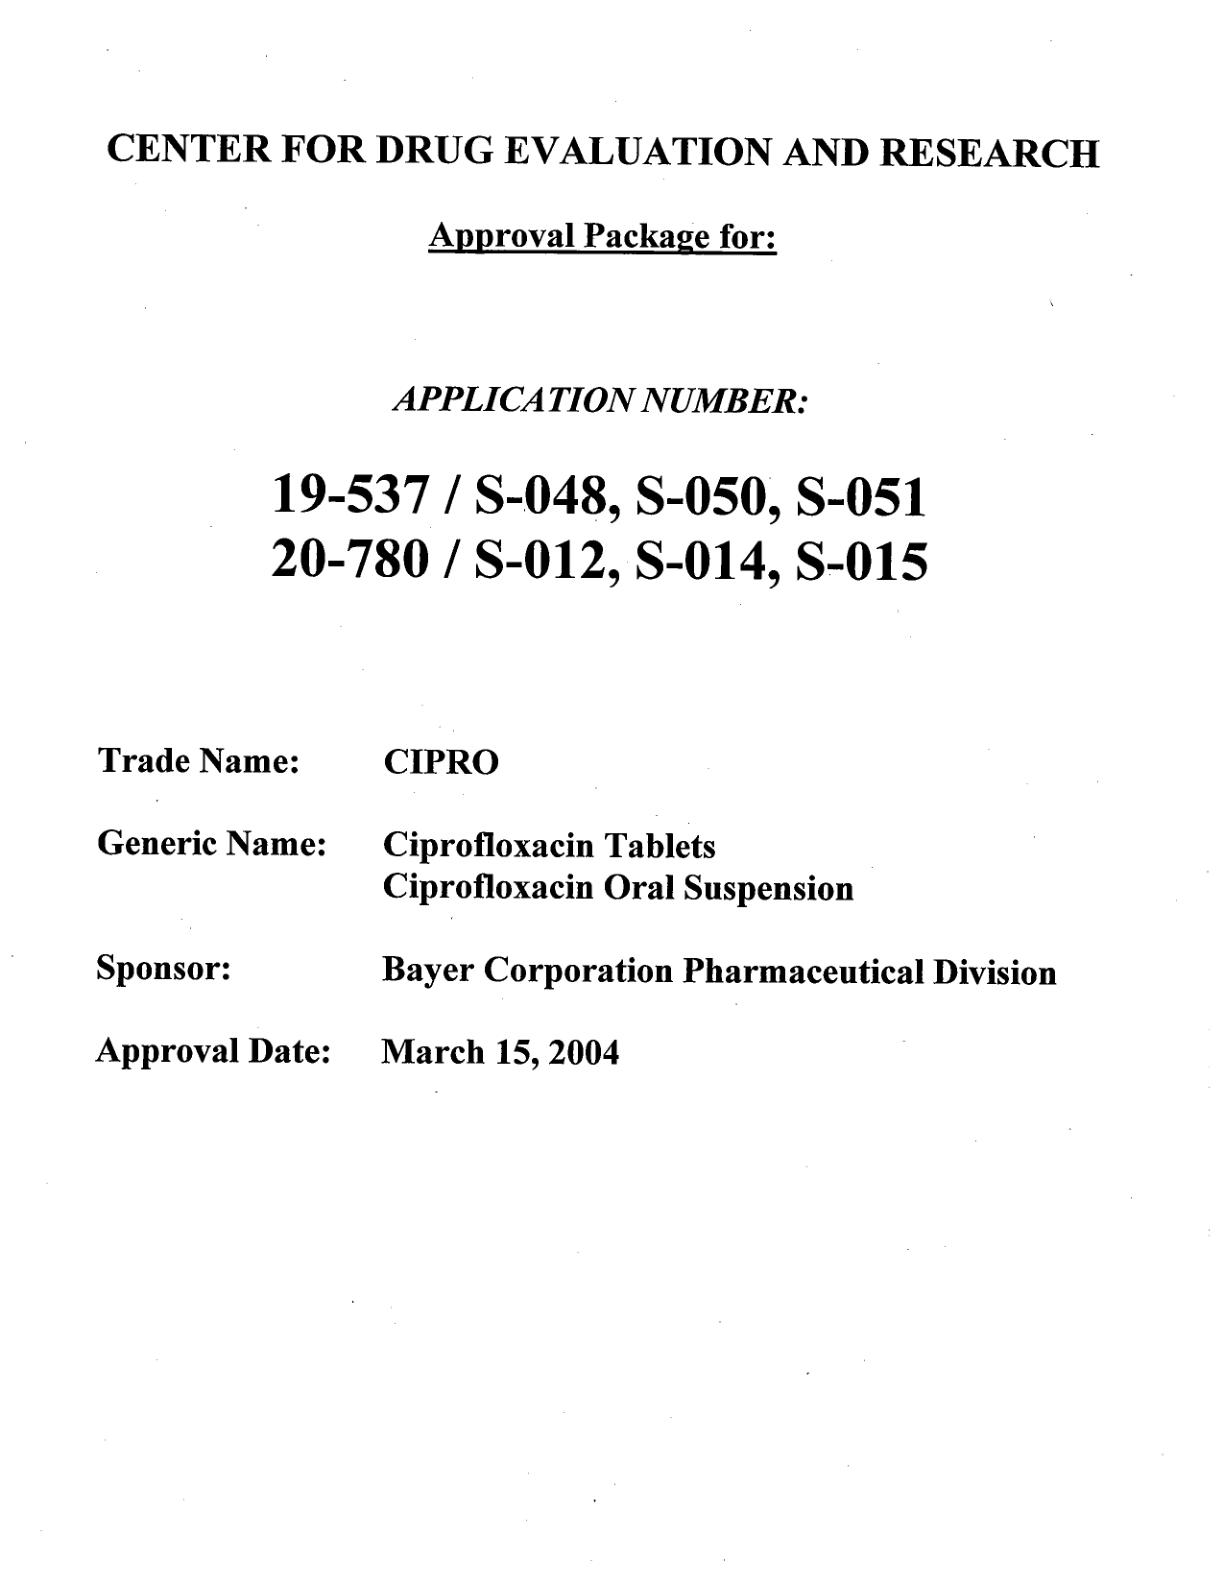nolines: (93, 741, 1062, 1074)
